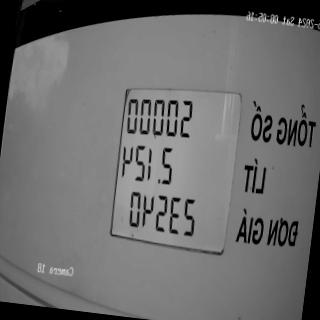screen: (105, 72, 248, 256)
